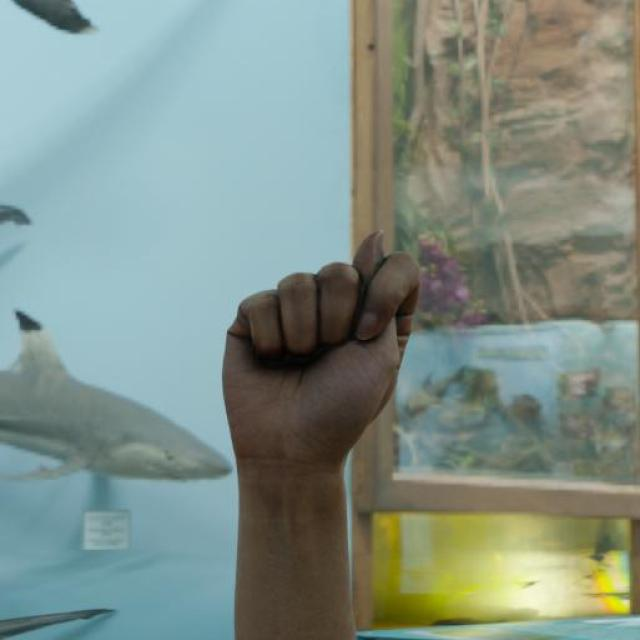S: (216, 225, 428, 475)
